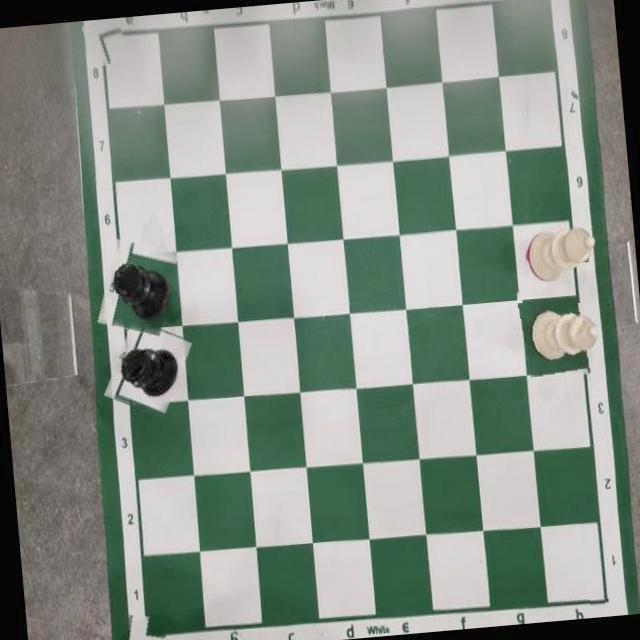chess-table-corners: (82, 16, 128, 65), (122, 612, 167, 640), (586, 582, 620, 614), (528, 0, 570, 20)
